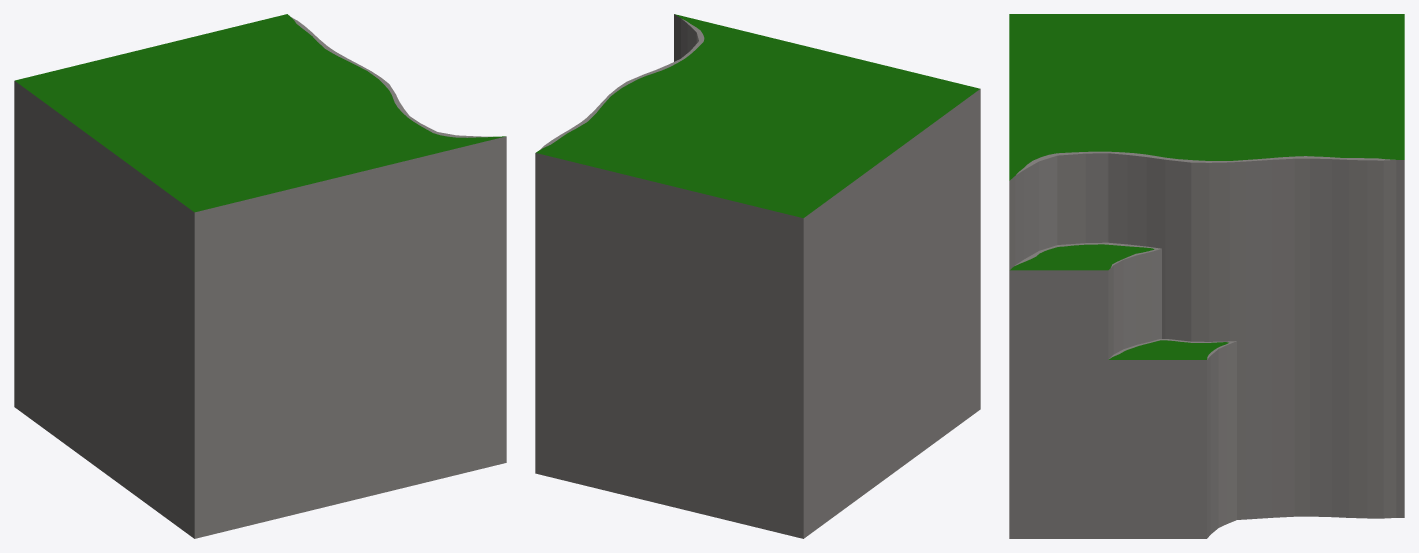
Rendered from StairToMountainWedge.fbx.
The picture shows the model from 3 angles, left to right: view 1: azimuth 30°, elevation 25°; view 2: azimuth 150°, elevation 25°; view 3: azimuth 270°, elevation 25°; orthographic projection. The views are drawn at different scales.
Parts seen in each view (by area): view 1: Plane.020; view 2: Plane.020; view 3: Plane.020.
Part boxes in pixels (x1,y1,x2,y2): Plane.020: (14,14,506,538); Plane.020: (535,14,980,538); Plane.020: (1009,14,1404,538).
Bounding box in the file's own units: 100 × 100 × 100.
